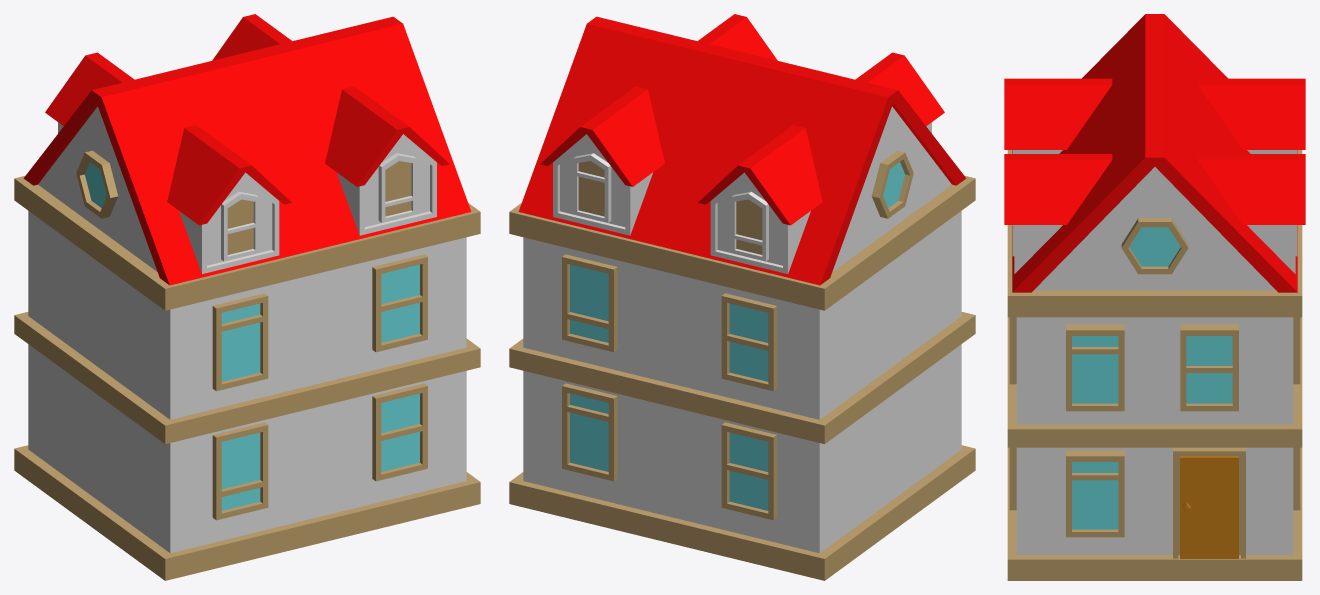
Rendered from House1.fbx.
3 views of the same model, side by side, from view 1: azimuth 30°, elevation 25°; view 2: azimuth 150°, elevation 25°; view 3: azimuth 270°, elevation 25° (orthographic). The views are drawn at different scales.
Visible parts, largest first — view 1: Body1; view 2: Body1; view 3: Body1.
Part boxes in pixels (<box>): Body1: <box>14,14,480,580</box>; Body1: <box>509,14,975,580</box>; Body1: <box>1004,14,1305,580</box>.
Size of the model in its own units: 405 by 520 by 338.
